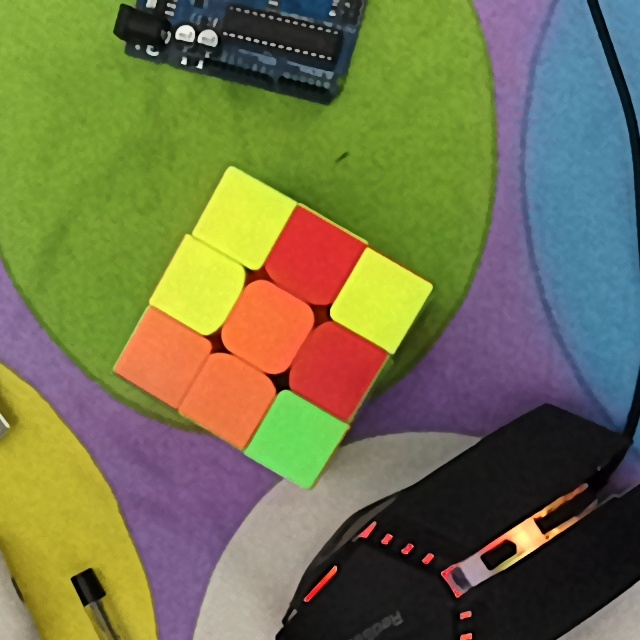tile: (283, 228, 341, 285), (201, 369, 260, 423), (310, 340, 364, 398), (354, 274, 408, 329), (212, 198, 272, 247), (241, 300, 294, 355), (174, 260, 224, 316), (139, 328, 191, 381), (271, 414, 324, 465)
